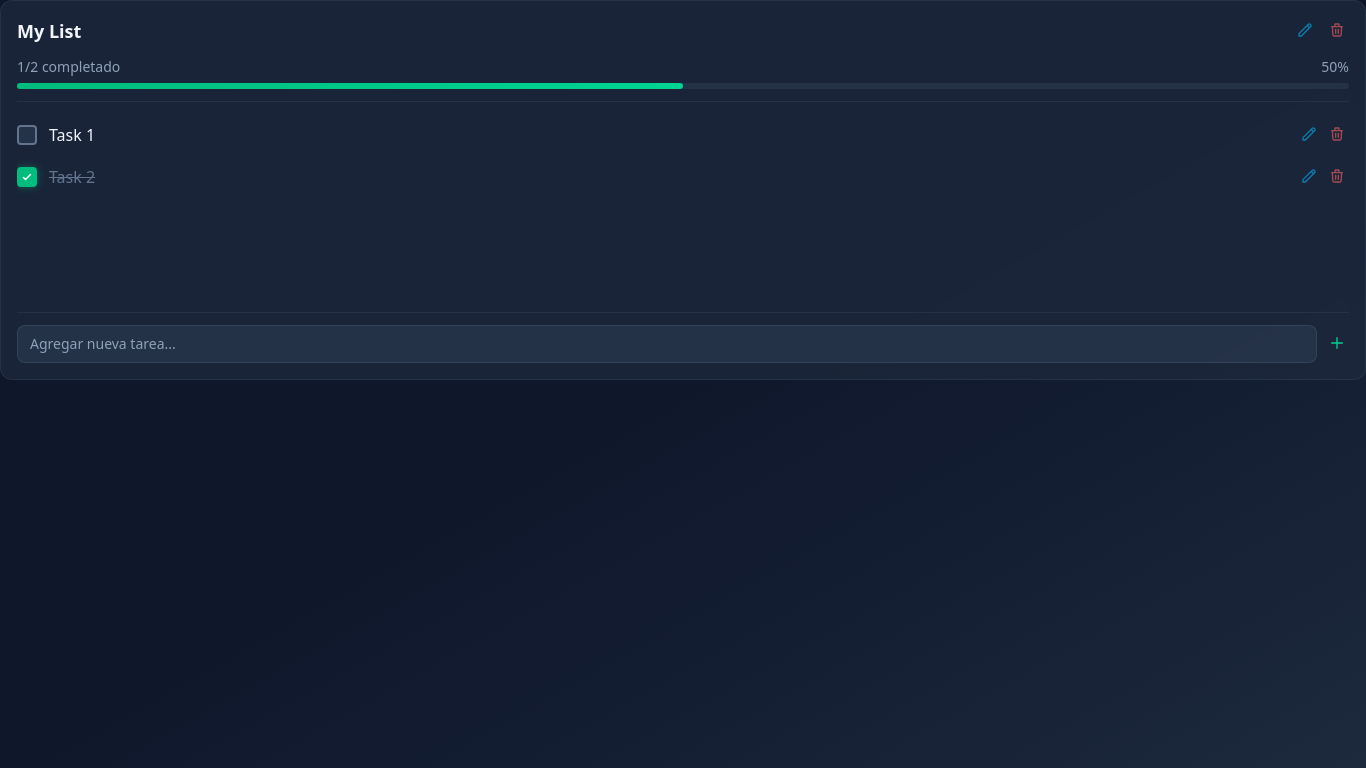
Test: CheckListCard - User Interactions › should show validation error for empty item
The width and height of the screenshot is (1366, 768).
Click the 9th button at (1337, 343), box [1325,331,1349,355]
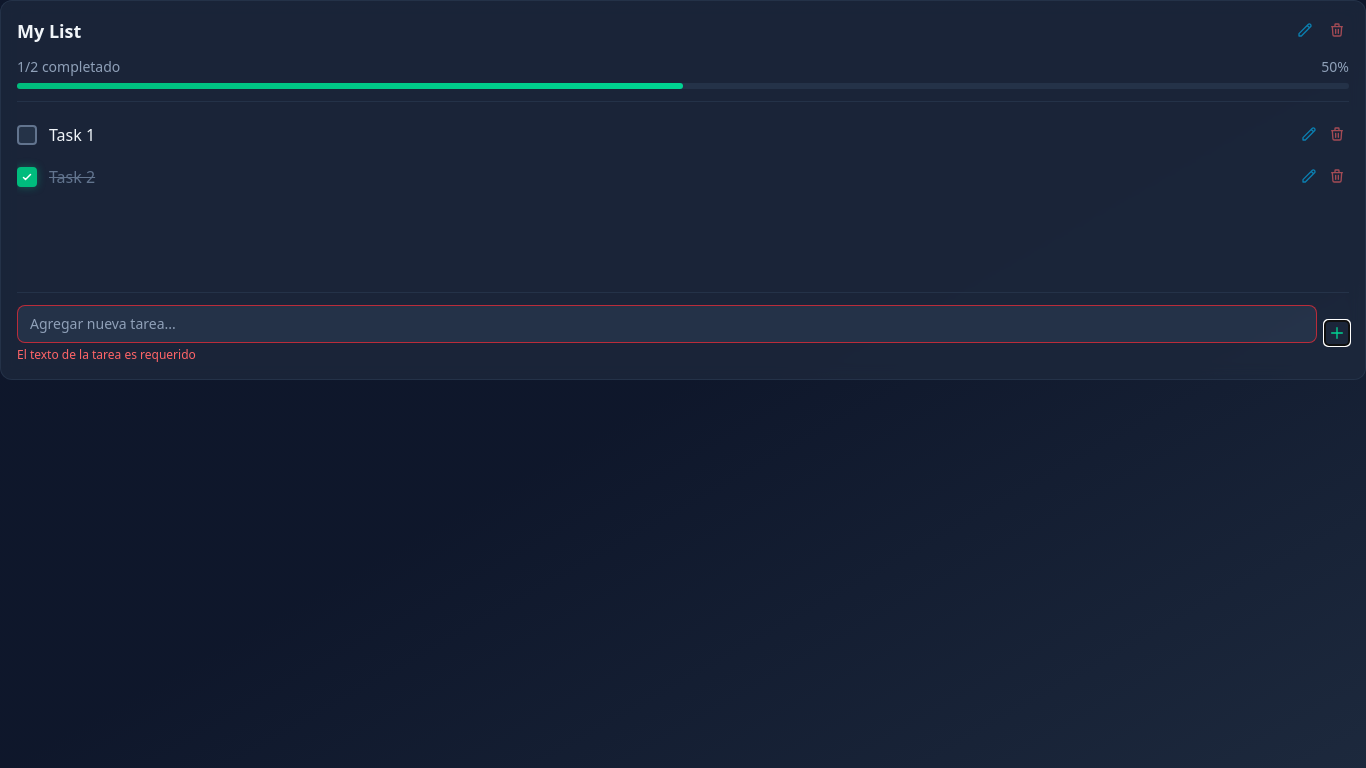
Check: the text "El texto de la tarea es requerido" is shown, box [17,346,196,363]
